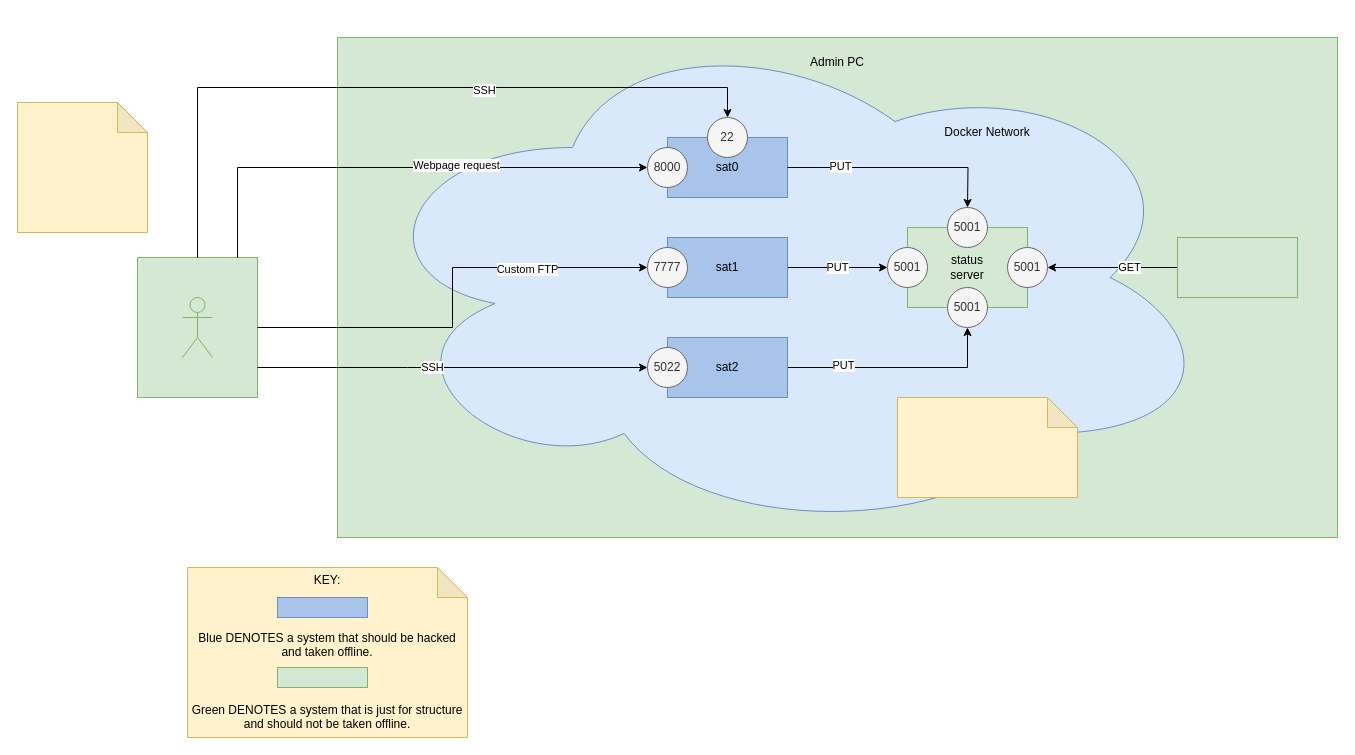
The diagram is 1355 pixels wide and 755 high, and some of its shapes have lost their labels. Each missing label, with the centre of its shape:
All data is routed throught the Status Server (status_server.py): point (987, 447)
Participant(s) PC: point (197, 327)
This diagram shows how all the network requests are handled.: point (82, 167)
UI: point (1237, 267)
